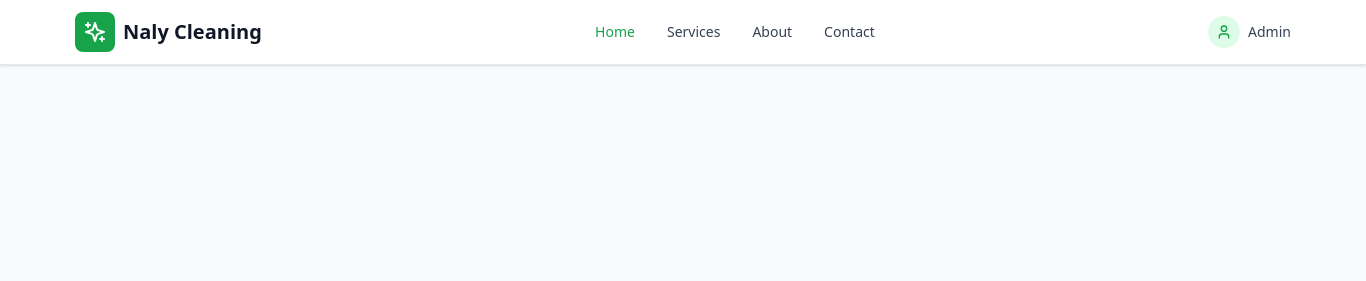
Scenario: Header Component › shows admin panel link for admin users
Click the button "Admin" at (1250, 32), box x1=1208 y1=16 x2=1291 y2=48
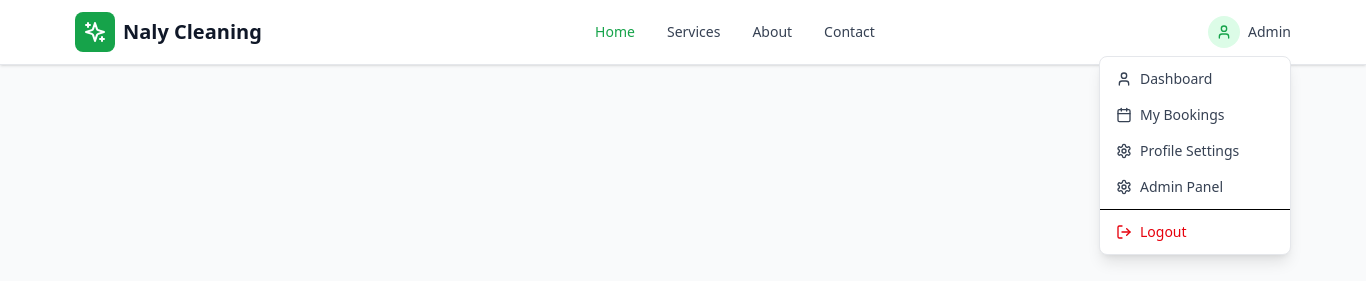
Expected: the link "Admin Panel" is shown, x1=1116 y1=177 x2=1223 y2=196
